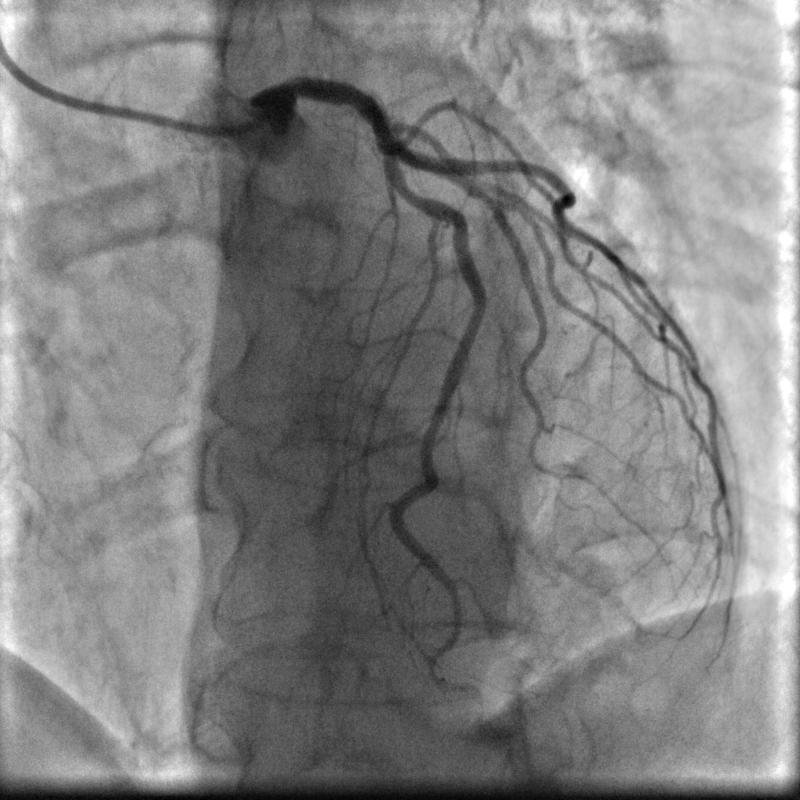Stenosis: (390, 176, 430, 205)
